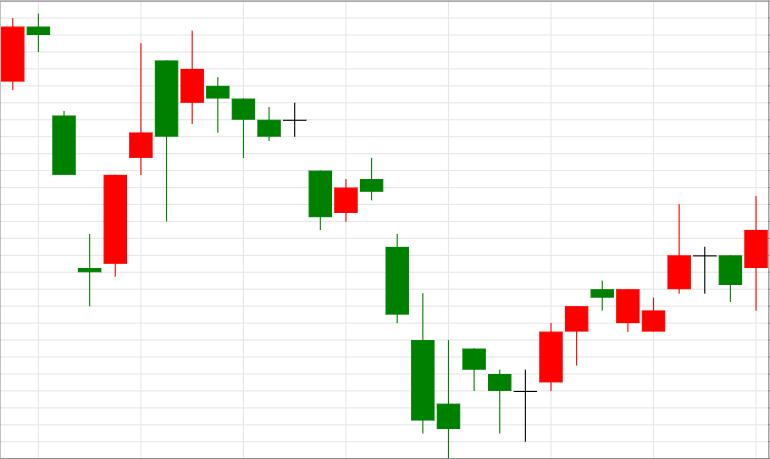shooting_star_fall: (540, 203, 692, 391)
